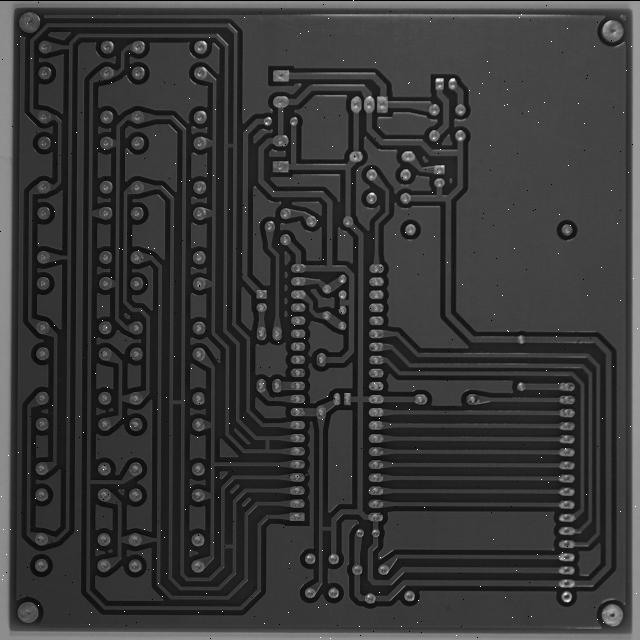short: (306, 535, 330, 554), (150, 408, 173, 423), (203, 556, 227, 570), (248, 445, 261, 470), (207, 143, 225, 156)
